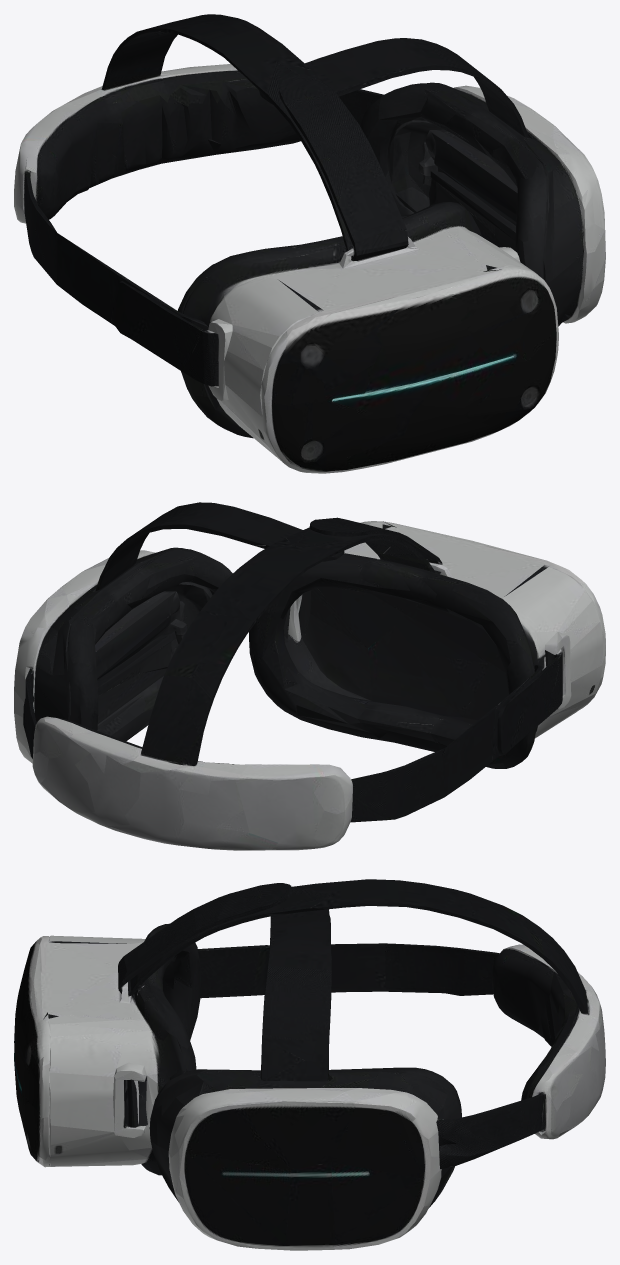
The model's file is district-vr-headset.glb.
The picture shows the model from 3 angles, top to bottom: view 1: azimuth 30°, elevation 25°; view 2: azimuth 150°, elevation 25°; view 3: azimuth 270°, elevation 25°; orthographic projection. The views are drawn at different scales.
Parts seen in each view (by area): view 1: output_unwrapped; view 2: output_unwrapped; view 3: output_unwrapped.
Boxes of the visible parts, x1=… form: output_unwrapped: x1=14, y1=14, x2=605, y2=473; output_unwrapped: x1=14, y1=502, x2=605, y2=850; output_unwrapped: x1=14, y1=879, x2=605, y2=1250.
Bounding box in the file's own units: 1.49 × 0.9144 × 1.9.
Materials: 1 (1 with a texture image).
